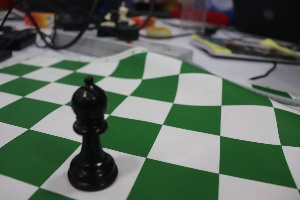black_bishop: (55, 68, 127, 194)
